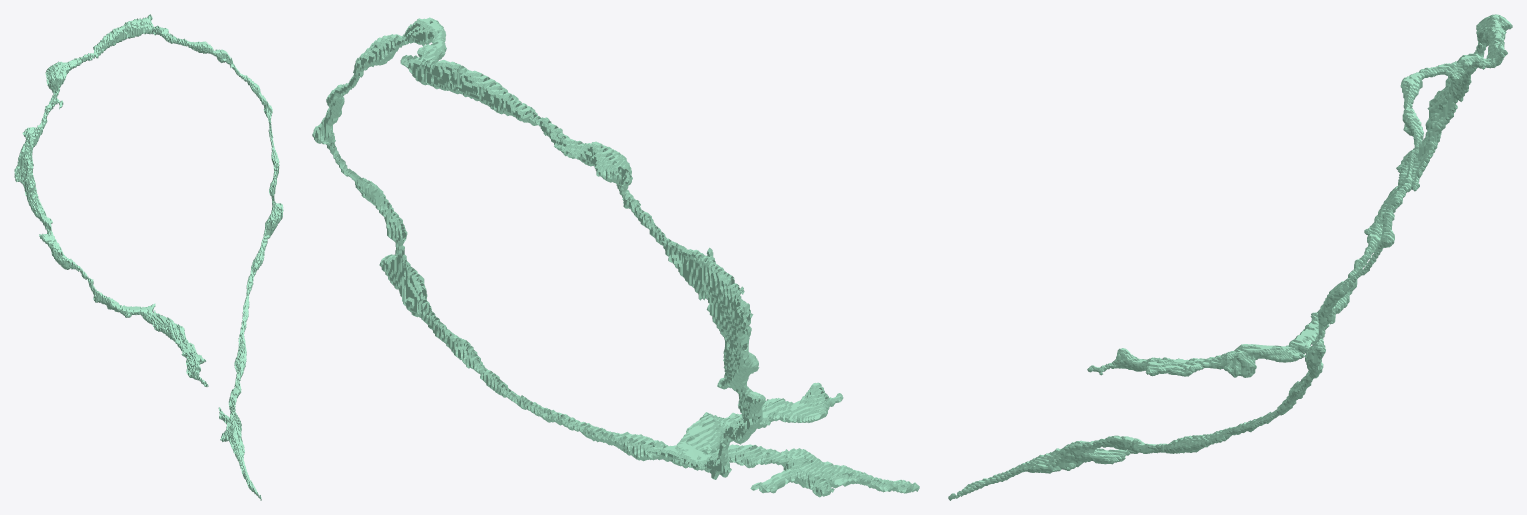
The model's file is SVV_AIBR.gltf.
3 renders of one model, left to right at view 1: azimuth 30°, elevation 25°; view 2: azimuth 150°, elevation 25°; view 3: azimuth 270°, elevation 25°, orthographic. The views are drawn at different scales.
Visible parts, largest first — view 1: AIBR; view 2: AIBR; view 3: AIBR.
Boxes of the visible parts, x1,y1,x2,y2 form: AIBR: [14, 14, 283, 500]; AIBR: [312, 17, 919, 497]; AIBR: [948, 14, 1512, 500].
Bounding box in the file's own units: 128021 × 172173 × 174474.
